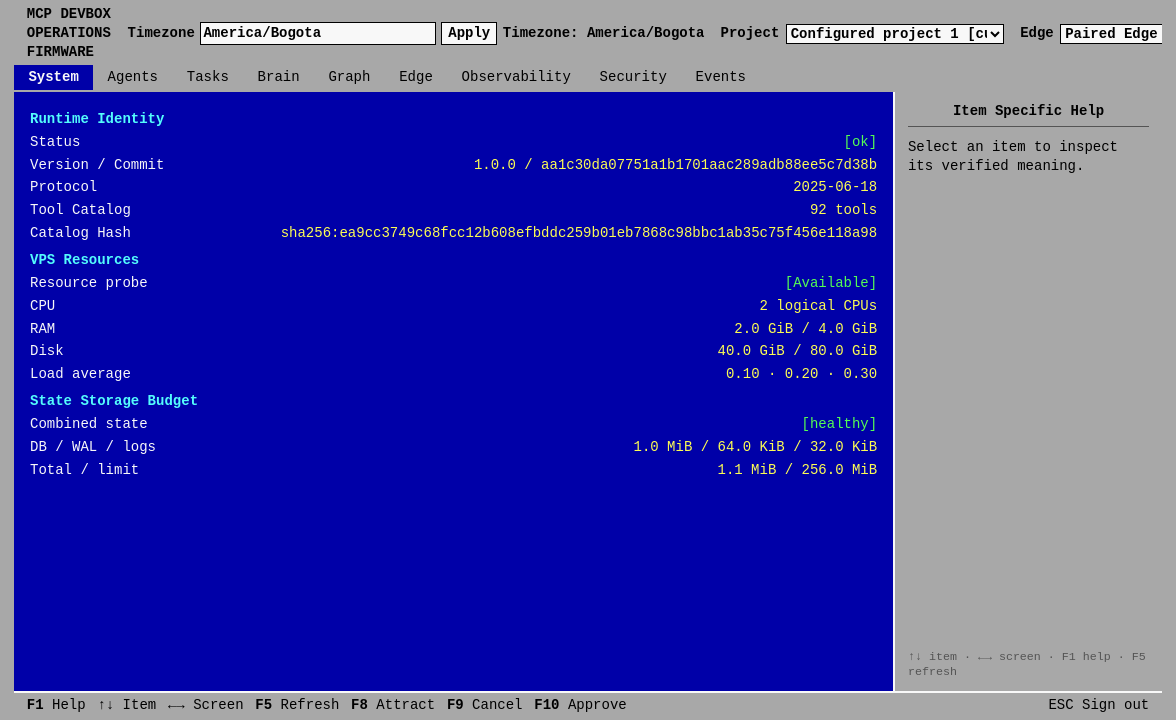
Test: Neo-BIOS operations firmware › filters and paginates server events
Check: the text "92 tools" is shown, box [810, 201, 877, 220]
Click the tab "Events". click: click(721, 78)
box: [681, 65, 760, 90]
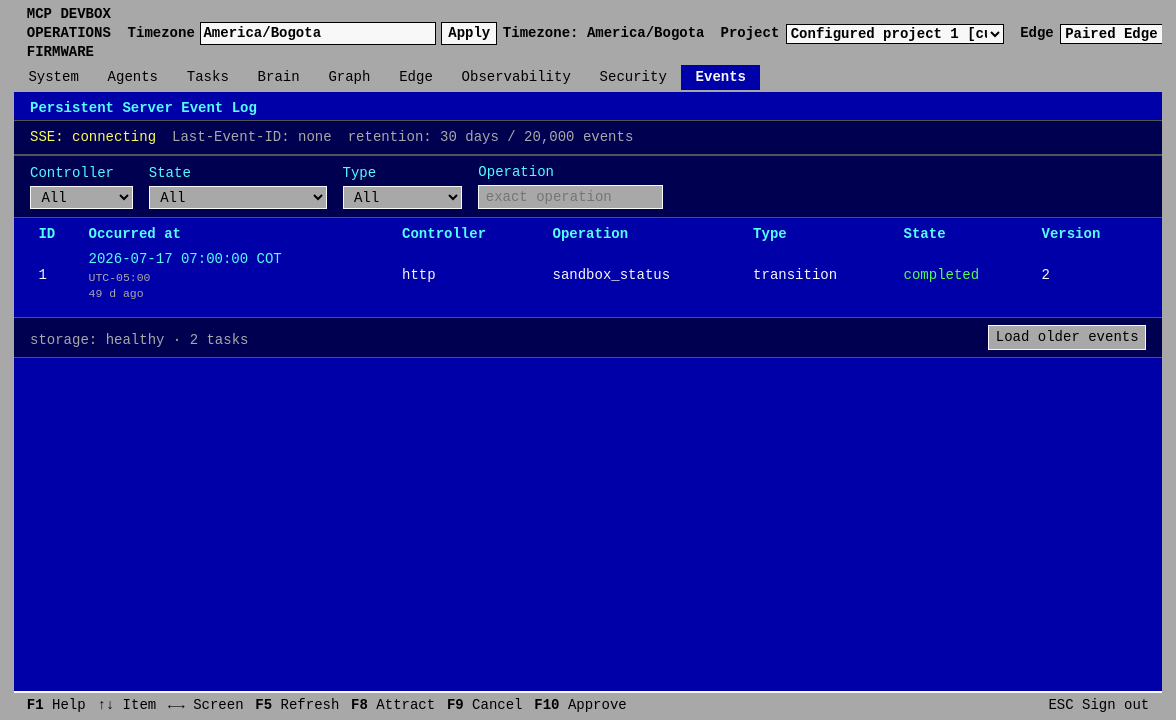
Check: the text titled "2026-07-17T12:00:00.005Z" is shown, box [88, 250, 282, 269]
Select "completed" in the dropdown named "Event state filter". click: (238, 198)
box: [149, 186, 327, 209]
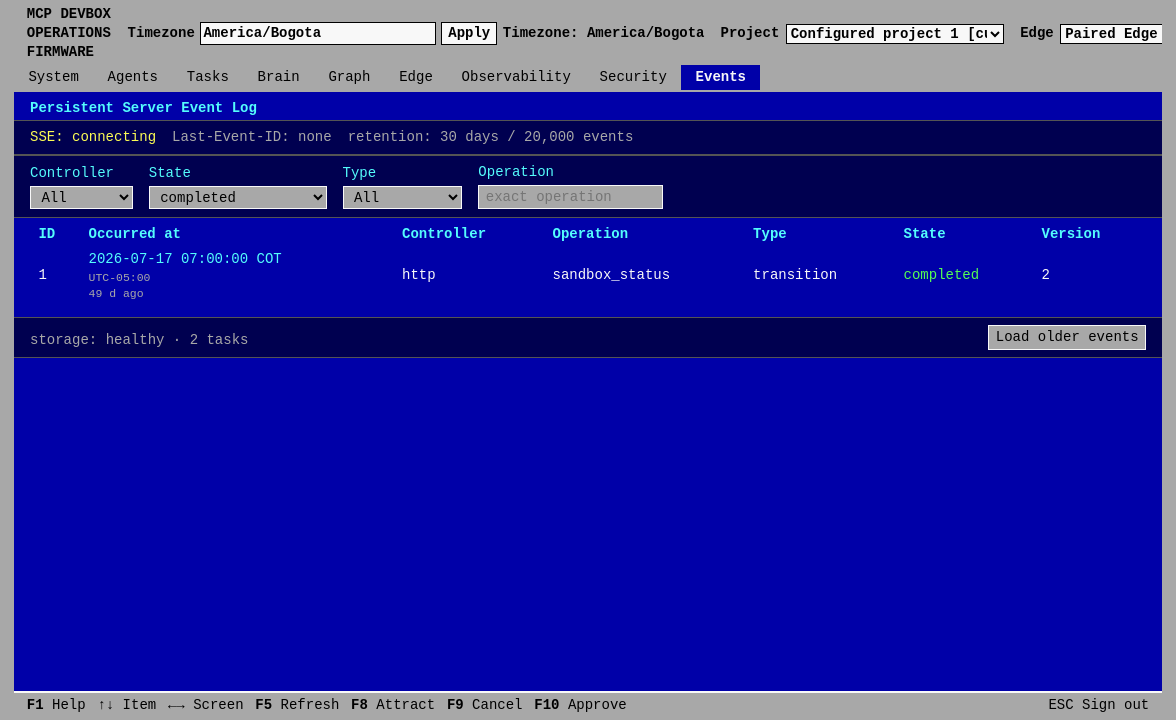
Click the button "Load older events". click: click(1067, 338)
box: [988, 325, 1146, 350]
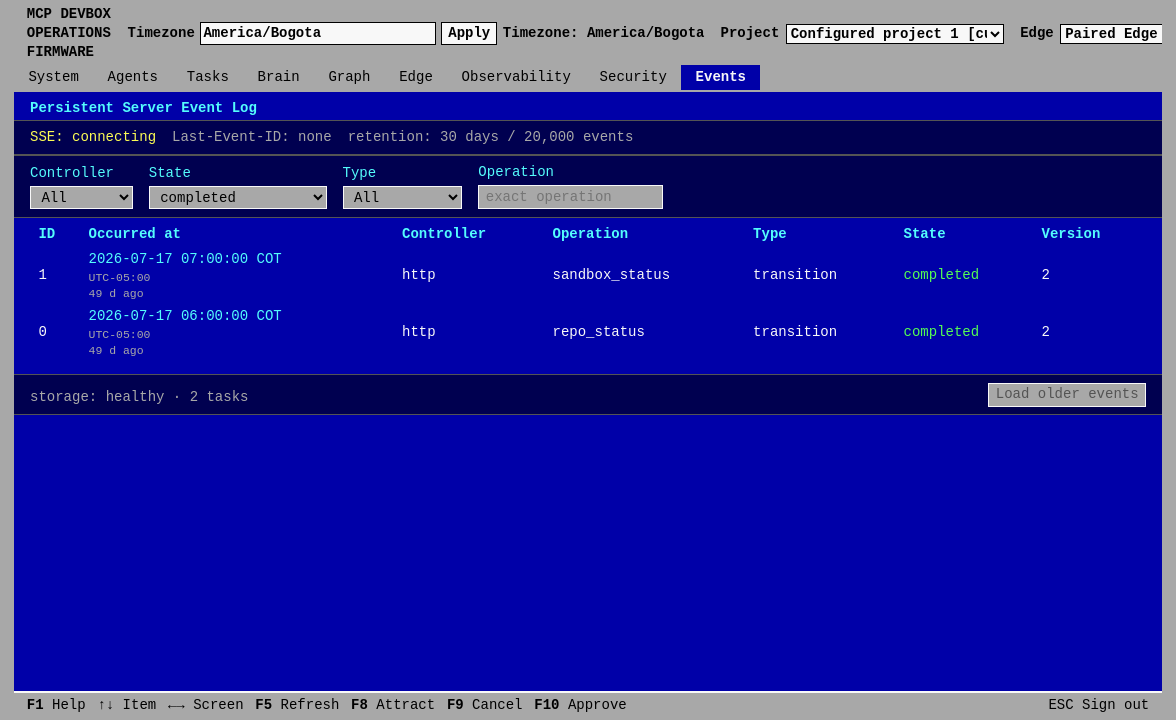
Check: the text titled "2026-07-17T11:00:00.005Z" is shown, box [88, 307, 282, 326]
